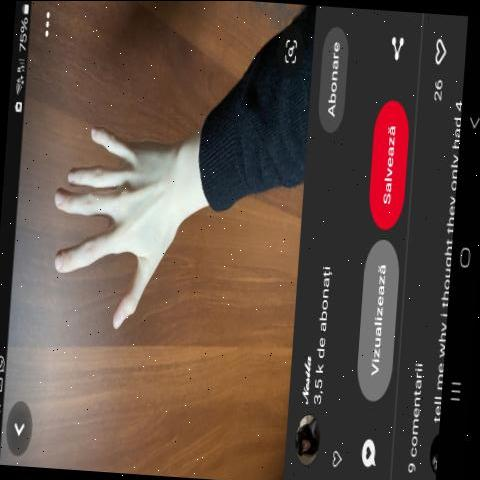Hands: (15, 63, 194, 356)
